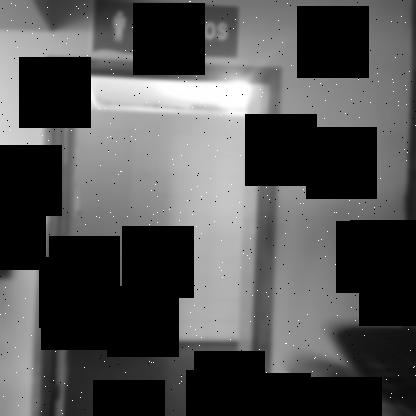Porte: (30, 57, 282, 415)
